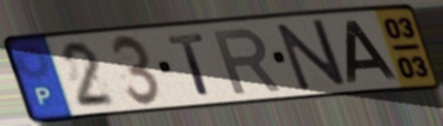2: (59, 39, 118, 111)
3: (110, 31, 162, 109)
A: (344, 19, 402, 85)
N: (273, 17, 351, 94)
R: (209, 26, 285, 97)
T: (164, 31, 213, 98)
